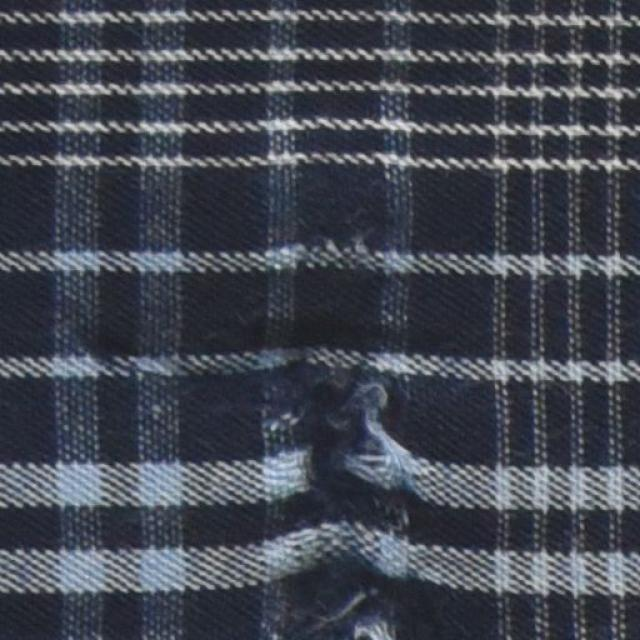Snag: (248, 367, 421, 640)
